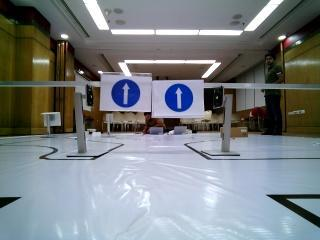straight: (154, 79, 206, 117), (100, 71, 150, 110)
